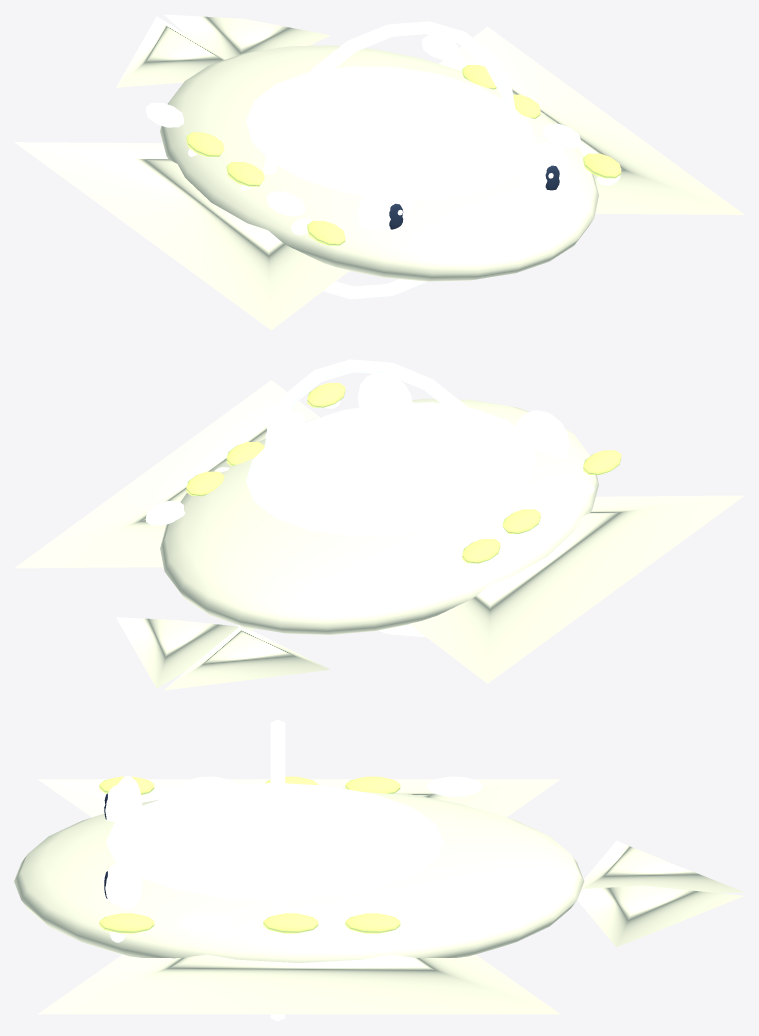
Rendered from fan-tail-glider.glb.
The picture shows the model from 3 angles, top to bottom: view 1: azimuth 30°, elevation 25°; view 2: azimuth 150°, elevation 25°; view 3: azimuth 270°, elevation 25°; orthographic projection.
Visible parts, largest first — view 1: ray-body, dorsal-glow, swim-fin--1-blade, swim-fin-1-blade, luminous-halo, tail-lobe--1, tail-lobe-1, eye-glow--1, eye-glow-1, weak-point-eye--1, weak-point-eye-1, scale-1-0 (+8 smaller); view 2: ray-body, dorsal-glow, swim-fin--1-blade, swim-fin-1-blade, luminous-halo, tail-lobe--1, tail-lobe-1, eye-glow--1, eye-glow-1, scale--1-0, scale-1-0, scale--1-3 (+6 smaller); view 3: ray-body, dorsal-glow, swim-fin-1-blade, tail-lobe-1, swim-fin--1-blade, tail-lobe--1, luminous-halo, eye-glow-1, scale-1-3, scale--1-4, scale-1-4, scale-1-0 (+5 smaller).
Part boxes in pixels (x1=…): ray-body: x1=160, y1=45, x2=598, y2=281; dorsal-glow: x1=246, y1=66, x2=536, y2=200; swim-fin--1-blade: x1=14, y1=142, x2=349, y2=330; swim-fin-1-blade: x1=439, y1=26, x2=744, y2=214; luminous-halo: x1=263, y1=21, x2=515, y2=299; tail-lobe--1: x1=116, y1=16, x2=225, y2=87; tail-lobe-1: x1=164, y1=14, x2=330, y2=59; eye-glow--1: x1=357, y1=180, x2=413, y2=229; eye-glow-1: x1=514, y1=142, x2=569, y2=184; weak-point-eye--1: x1=370, y1=191, x2=410, y2=230; weak-point-eye-1: x1=527, y1=153, x2=566, y2=189; scale-1-0: x1=583, y1=153, x2=621, y2=178; ray-body: x1=160, y1=398, x2=598, y2=634; dorsal-glow: x1=246, y1=402, x2=536, y2=536; swim-fin--1-blade: x1=409, y1=495, x2=744, y2=683; swim-fin-1-blade: x1=14, y1=380, x2=319, y2=568; luminous-halo: x1=264, y1=359, x2=516, y2=636; tail-lobe--1: x1=164, y1=625, x2=330, y2=690; tail-lobe-1: x1=116, y1=617, x2=254, y2=688; eye-glow--1: x1=515, y1=410, x2=569, y2=458; eye-glow-1: x1=357, y1=373, x2=412, y2=407; scale--1-0: x1=583, y1=450, x2=621, y2=474; scale-1-0: x1=307, y1=383, x2=345, y2=407; scale--1-3: x1=462, y1=539, x2=500, y2=563; ray-body: x1=14, y1=788, x2=584, y2=962; dorsal-glow: x1=106, y1=783, x2=443, y2=900; swim-fin-1-blade: x1=38, y1=954, x2=560, y2=1014; tail-lobe-1: x1=577, y1=885, x2=744, y2=947; swim-fin--1-blade: x1=38, y1=779, x2=560, y2=817; tail-lobe--1: x1=580, y1=841, x2=744, y2=893; luminous-halo: x1=270, y1=719, x2=285, y2=1021; eye-glow-1: x1=118, y1=853, x2=142, y2=909; scale-1-3: x1=345, y1=913, x2=400, y2=933; scale--1-4: x1=427, y1=776, x2=482, y2=796; scale-1-4: x1=427, y1=913, x2=482, y2=933; scale-1-0: x1=99, y1=913, x2=154, y2=933.
Size of the model in its own units: 2.3 by 1.26 by 3.02.
